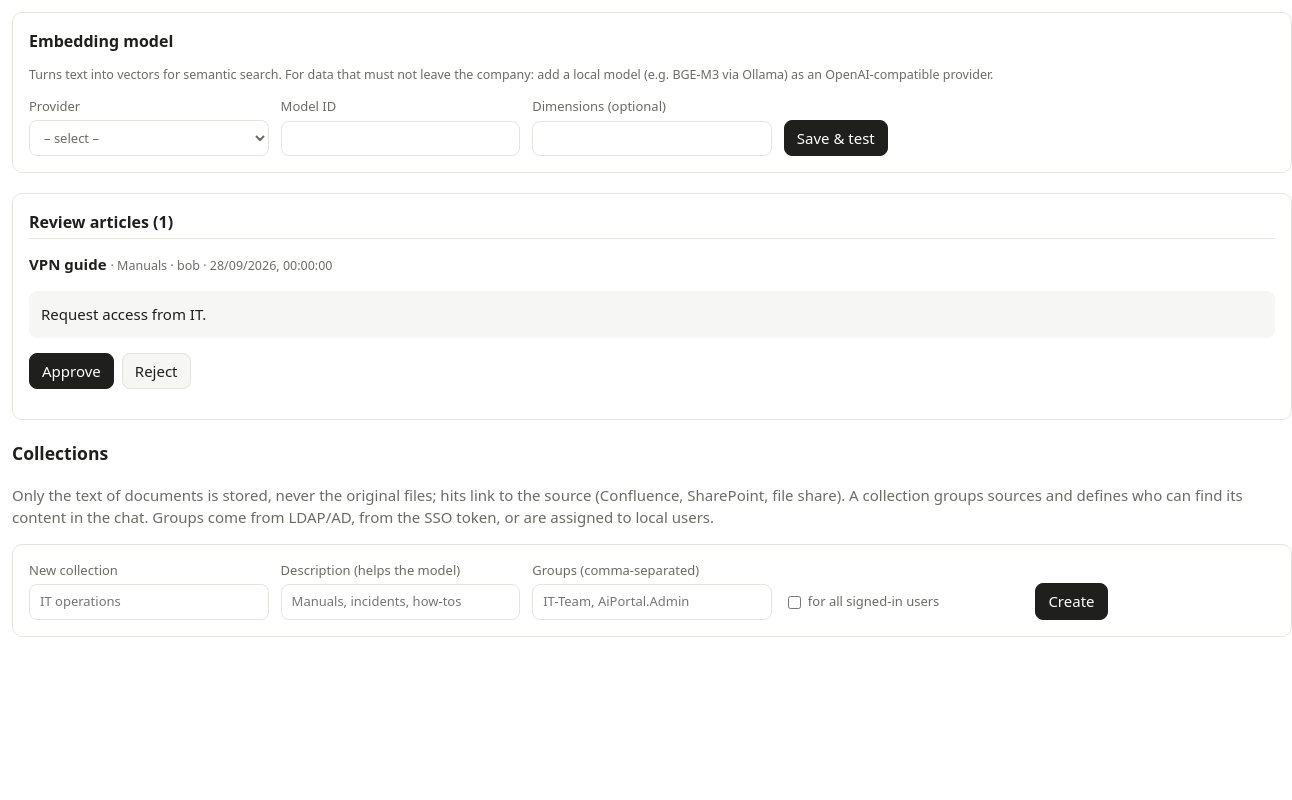
it: article review › shows submitted text to admins and removes an approved article from the queue
Click the button "Approve" at [71, 371], box [29,352,114,389]
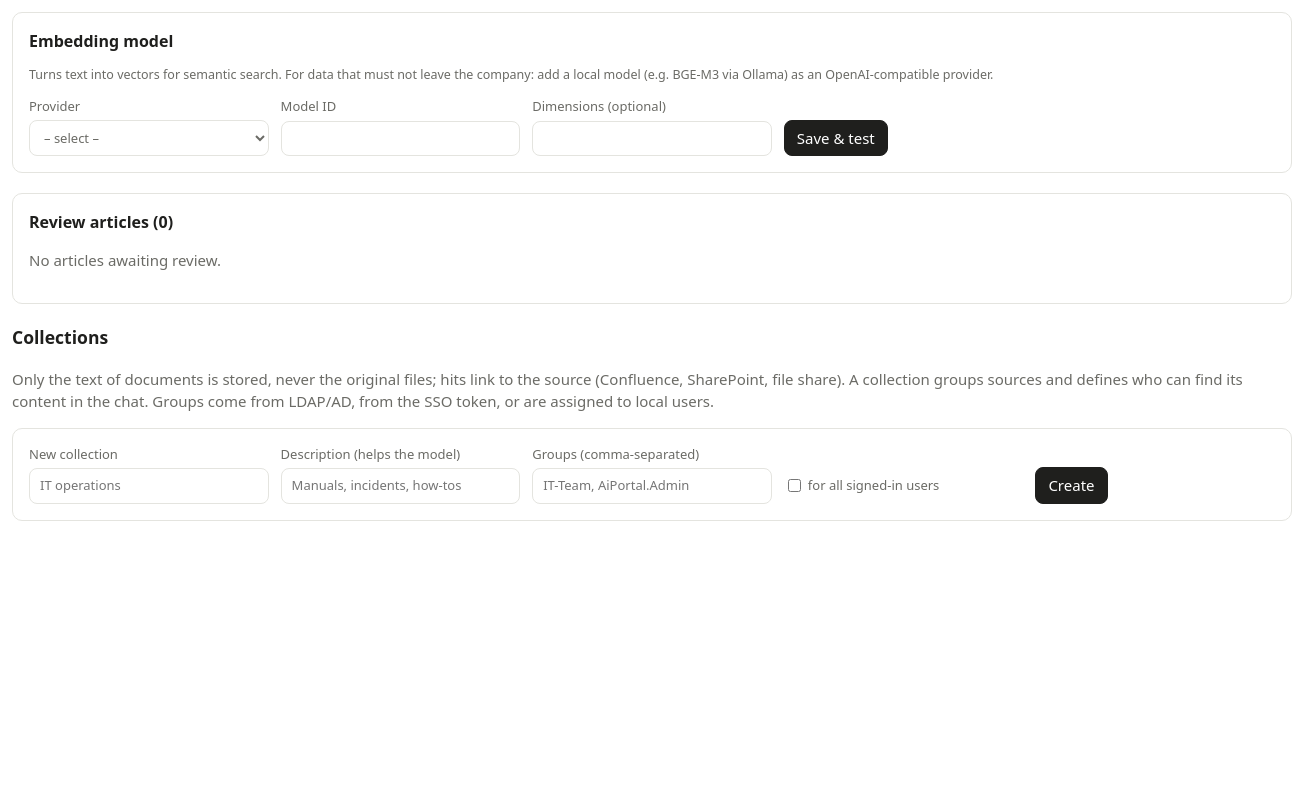
Expected: the text "No articles awaiting review." is shown, [29,250,221,270]
